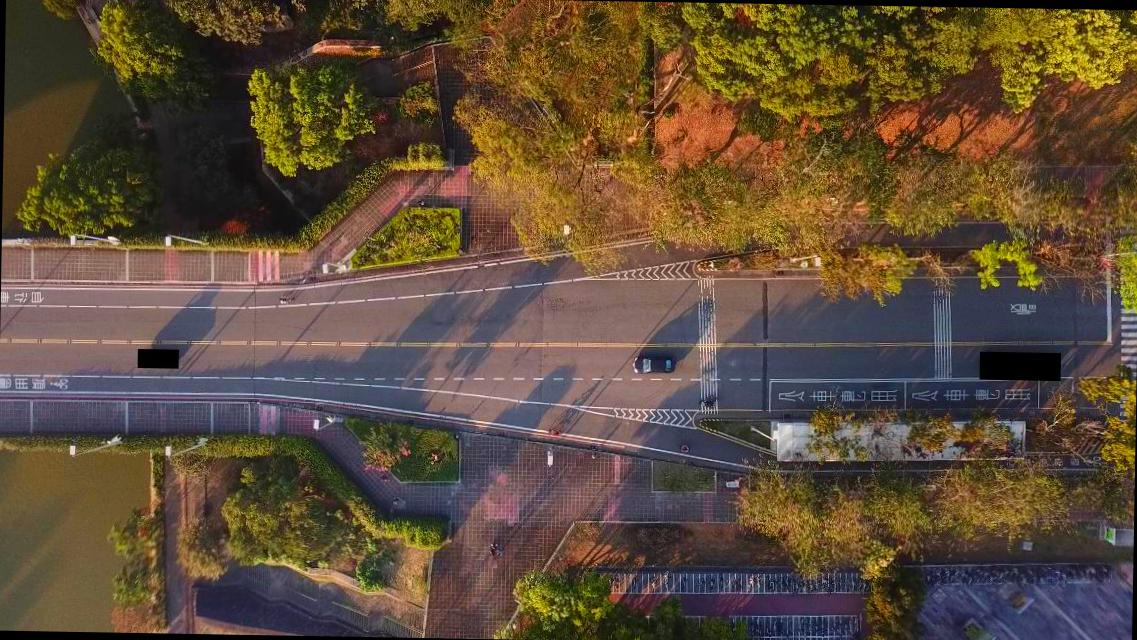vehicle: (632, 356, 676, 373)
